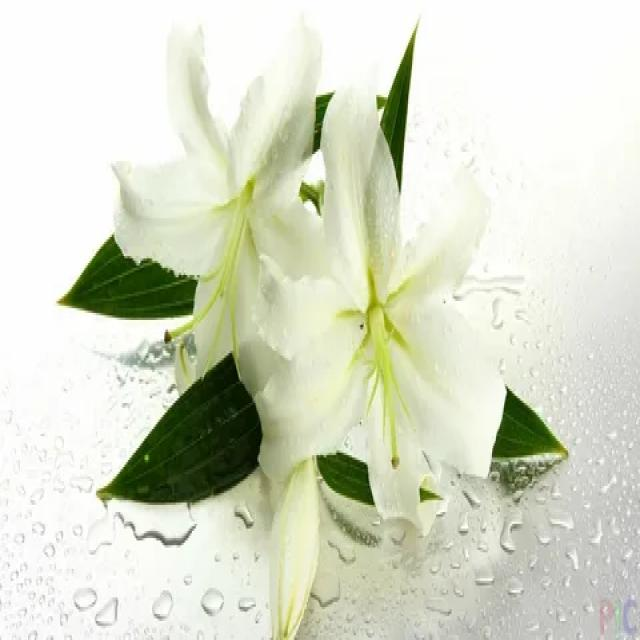lily: (243, 77, 514, 544)
